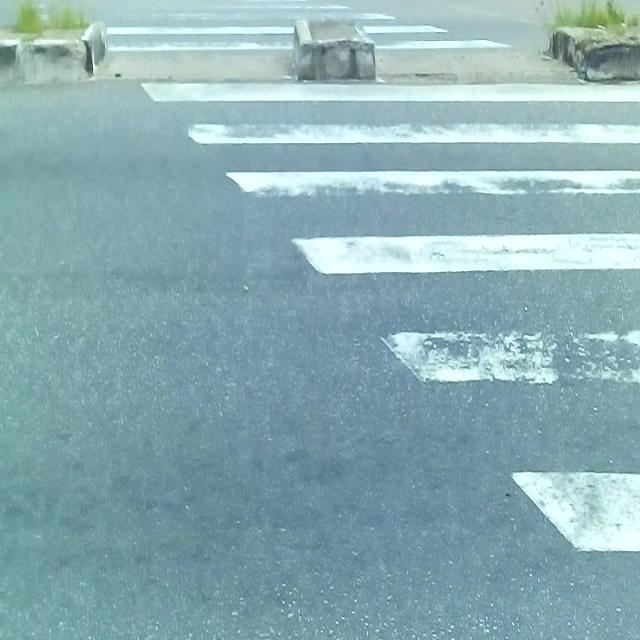crosswalk: (74, 0, 640, 640)
